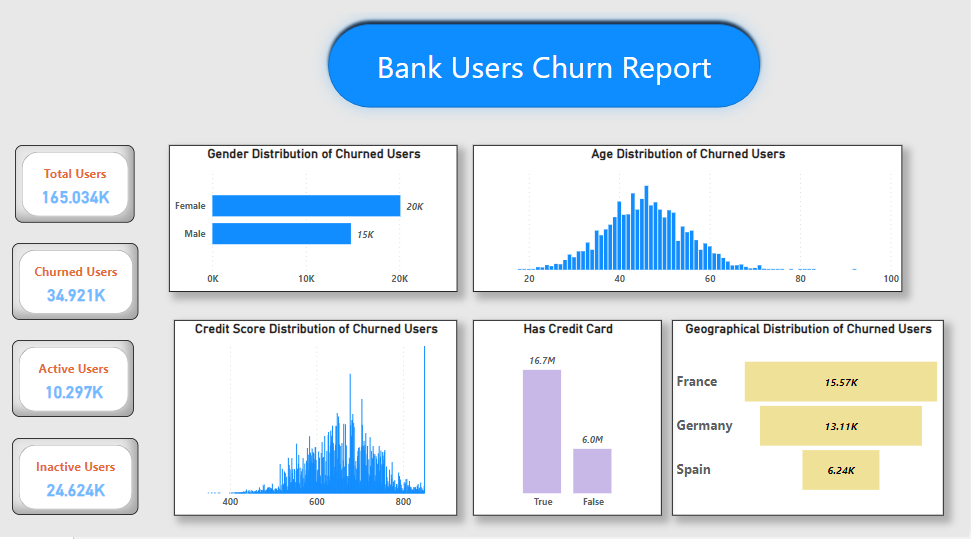

This screenshot's page, from the dashboard's own definition file:
{"tool":"powerbi","page":{"name":"Page 1","canvas":[1280,720],"ordinal":0},"visuals":[{"type":"cardVisual","fields":{"Data":["bank_churn train.Surname"]},"box":[23.5,204.7,156,100.7],"z":0},{"type":"cardVisual","fields":{"Data":["bank_churn train.Active Member"]},"box":[23.5,449.6,161,100.7],"z":1000},{"type":"cardVisual","fields":{"Data":["bank_churn train.Active Member"]},"box":[18.5,590.5,166.1,100.7],"z":2000},{"type":"cardVisual","fields":{"Data":["bank_churn train.Exited"]},"box":[23.5,333.8,166.1,100.7],"z":3000},{"type":"funnel","title":"Geographical Distribution of Churned Users","fields":{"Category":["bank_churn train.Geography"],"Y":["bank_churn train.Geography"]},"box":[890.8,434.5,357.3,256.7],"z":4000},{"type":"barChart","title":"Gender Distribution of Churned Users","fields":{"Category":["bank_churn train.Gender"],"Y":["bank_churn train.Gender"]},"box":[229.8,204.7,379.1,192.9],"z":5000},{"type":"columnChart","title":"Has Credit Card","fields":{"Category":["bank_churn train.Credit Card"],"Y":["bank_churn train.Credit Score"]},"box":[629.1,434.5,248.3,256.7],"z":6000},{"type":"clusteredColumnChart","title":"Credit Score Distribution of Churned Users","fields":{"Category":["bank_churn train.Credit Score"],"Y":["bank_churn train.Credit Score"]},"box":[236.5,434.5,372.4,256.7],"z":6001},{"type":"clusteredColumnChart","title":"Age Distribution of Churned Users","fields":{"Category":["bank_churn train.Age"],"Y":["bank_churn train.Age"]},"box":[629.1,204.7,563.7,192.9],"z":6002},{"type":"shape","box":[419.4,26.8,607.3,149.3],"z":6003}]}

Visuals, with their boxes in screenshot pixels (x1, y1, x2, y2), scaled from the page's 1280x720 canvas onto the 971x539 screenshot:
cardVisual - bank_churn train.Surname: 18, 153, 136, 229
cardVisual - bank_churn train.Active Member: 18, 337, 140, 412
cardVisual - bank_churn train.Active Member: 14, 442, 140, 517
cardVisual - bank_churn train.Exited: 18, 250, 144, 325
"Geographical Distribution of Churned Users" funnel: 676, 325, 947, 517
"Gender Distribution of Churned Users" barChart: 174, 153, 462, 298
"Has Credit Card" columnChart: 477, 325, 666, 517
"Credit Score Distribution of Churned Users" clusteredColumnChart: 179, 325, 462, 517
"Age Distribution of Churned Users" clusteredColumnChart: 477, 153, 905, 298
shape: 318, 20, 779, 132
